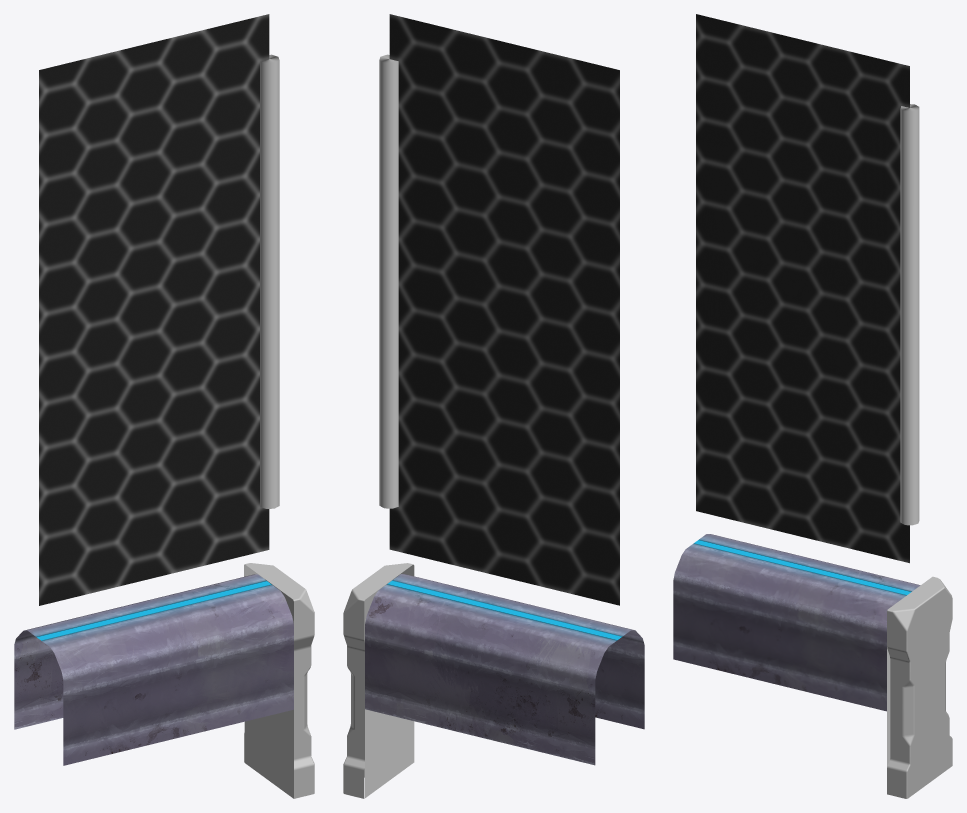
The model's file is SM_Bleachers_Wall_End_UV.fbx.
The picture shows the model from 3 angles, left to right: view 1: azimuth 30°, elevation 25°; view 2: azimuth 150°, elevation 25°; view 3: azimuth 330°, elevation 25°; orthographic projection. The views are drawn at different scales.
Visible parts, largest first — view 1: SM_Bleachers_Wall_End_UV; view 2: SM_Bleachers_Wall_End_UV; view 3: SM_Bleachers_Wall_End_UV.
Part boxes in pixels (x1=…): SM_Bleachers_Wall_End_UV: x1=14, y1=14, x2=314, y2=798; SM_Bleachers_Wall_End_UV: x1=343, y1=14, x2=644, y2=798; SM_Bleachers_Wall_End_UV: x1=673, y1=14, x2=952, y2=798.
Bounding box in the file's own units: 295 × 859 × 101.
